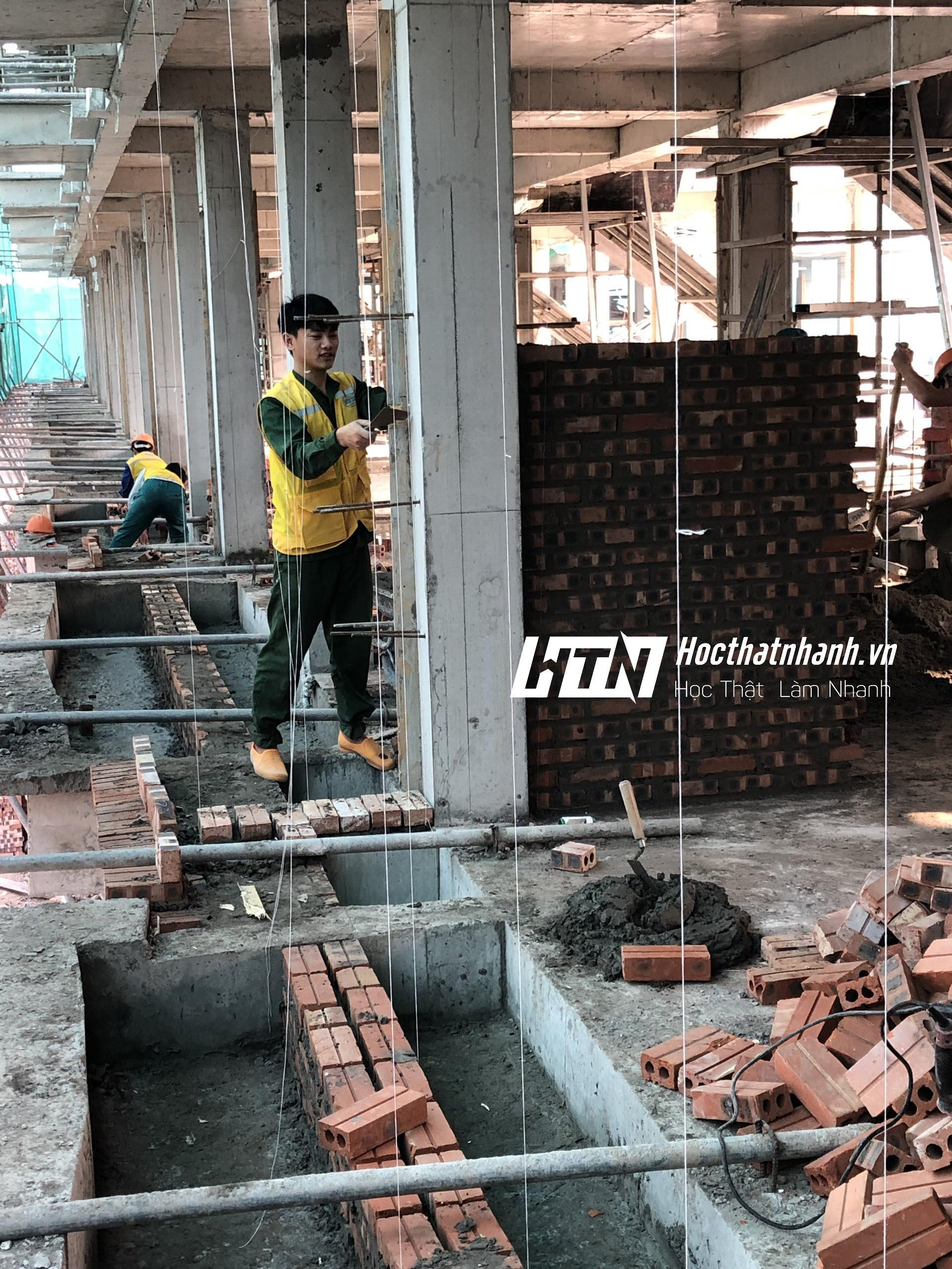Helmet: (131, 433, 154, 450)
Person: (248, 293, 409, 782), (104, 432, 188, 549)
Safety Boot: (336, 729, 398, 772), (248, 740, 295, 780)
Safety Vest: (257, 367, 377, 555), (127, 459, 180, 492)
bare-arms: (332, 418, 373, 461)
no-helmet: (279, 289, 351, 337)
